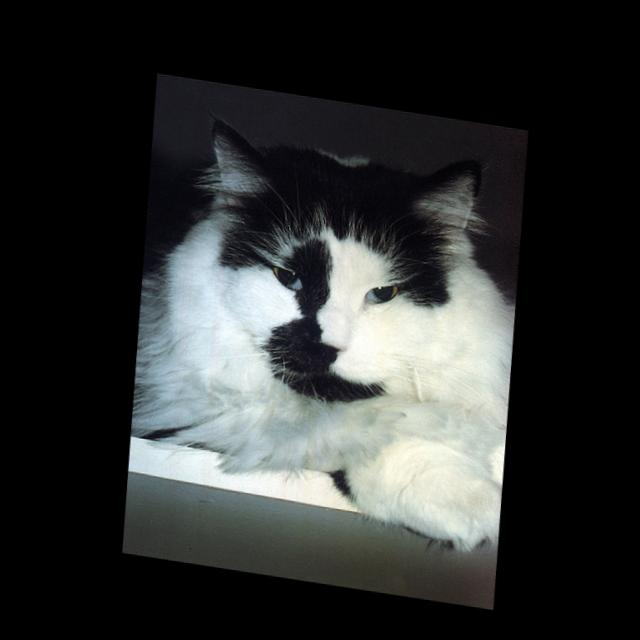animals: (200, 113, 482, 374)
